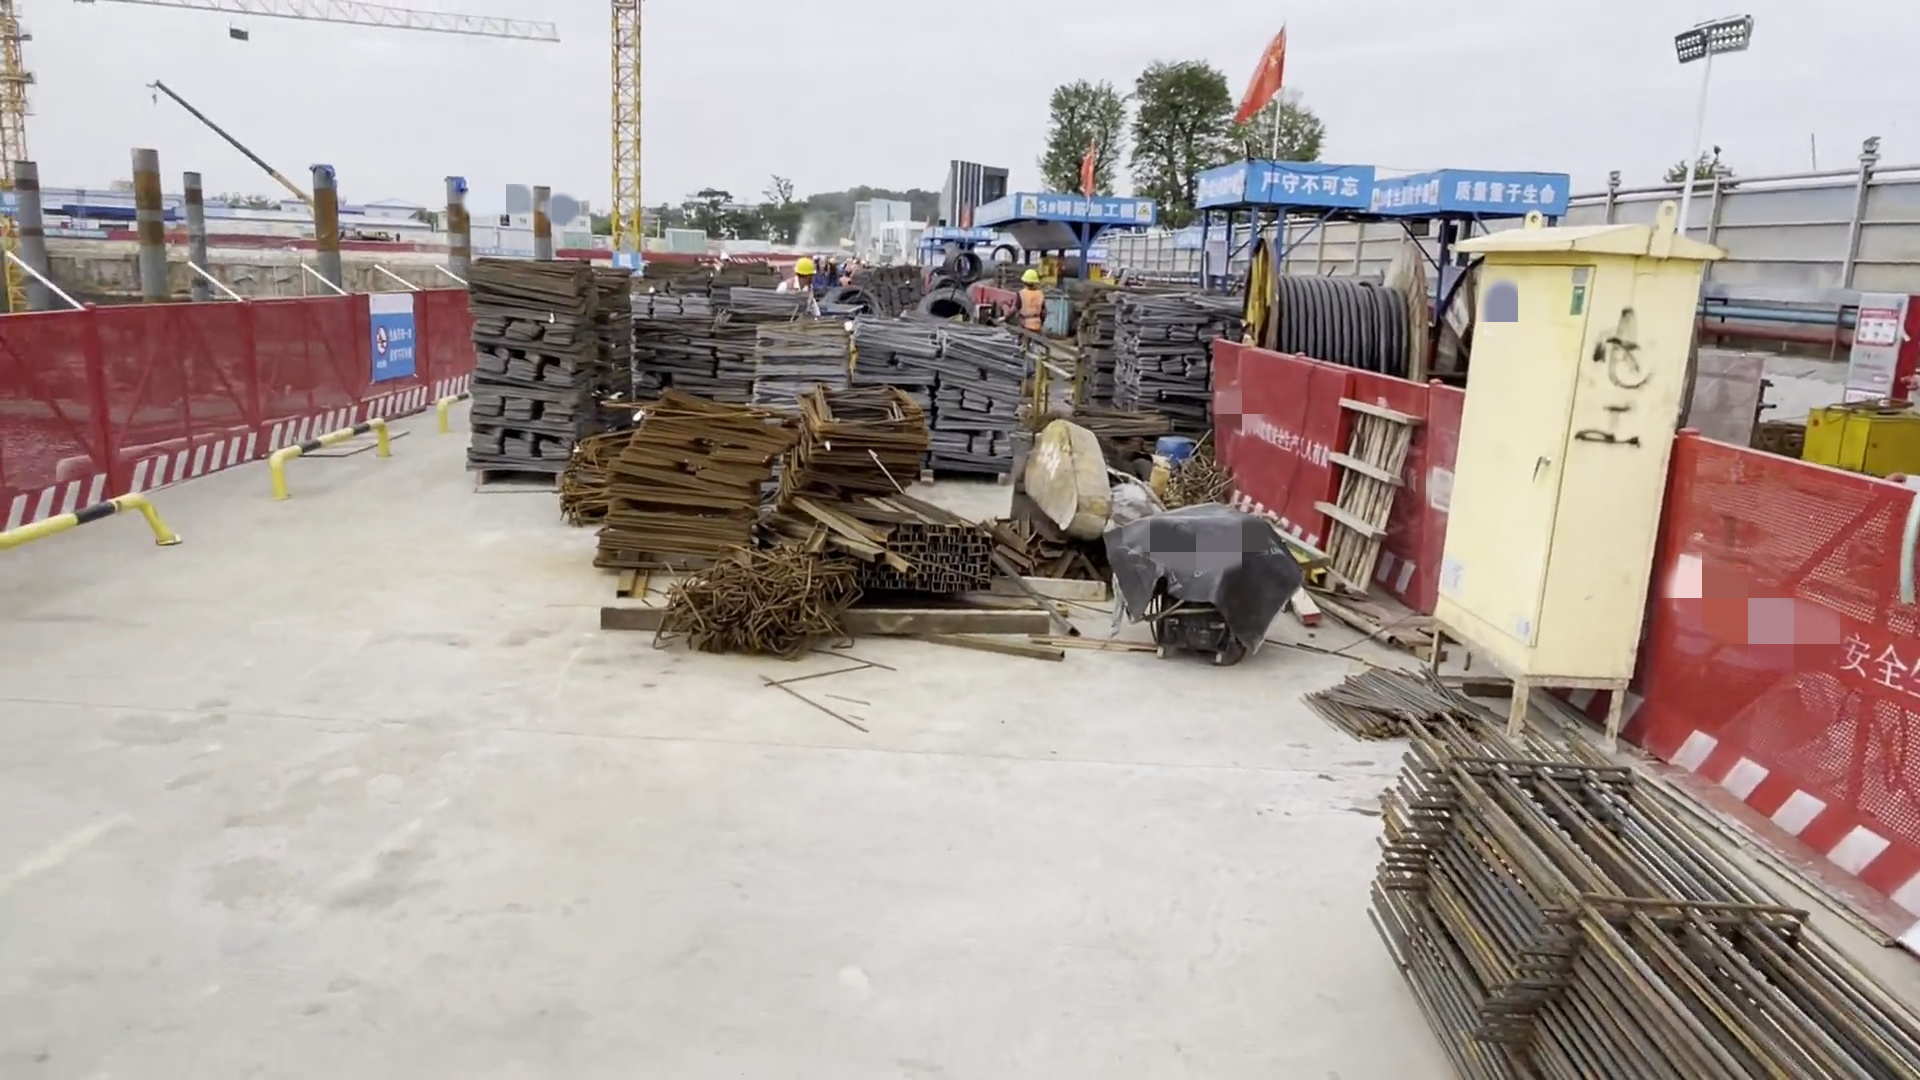ebox: (1434, 215, 1685, 725)
fence: (1, 281, 470, 528), (1675, 432, 1920, 897), (1217, 338, 1454, 609)
helmet: (794, 257, 814, 279), (1024, 267, 1032, 275)
hook: (230, 21, 250, 44)
person: (1004, 267, 1044, 342), (779, 257, 820, 316), (824, 258, 837, 292), (839, 272, 854, 289)
rebar: (1385, 718, 1919, 1080), (1319, 664, 1482, 735)
slogan: (1249, 157, 1368, 212), (1446, 175, 1564, 215), (369, 295, 414, 373), (1422, 180, 1437, 206), (1016, 195, 1037, 214), (1136, 202, 1150, 221), (1370, 186, 1380, 209)
vest: (1021, 287, 1041, 325)
